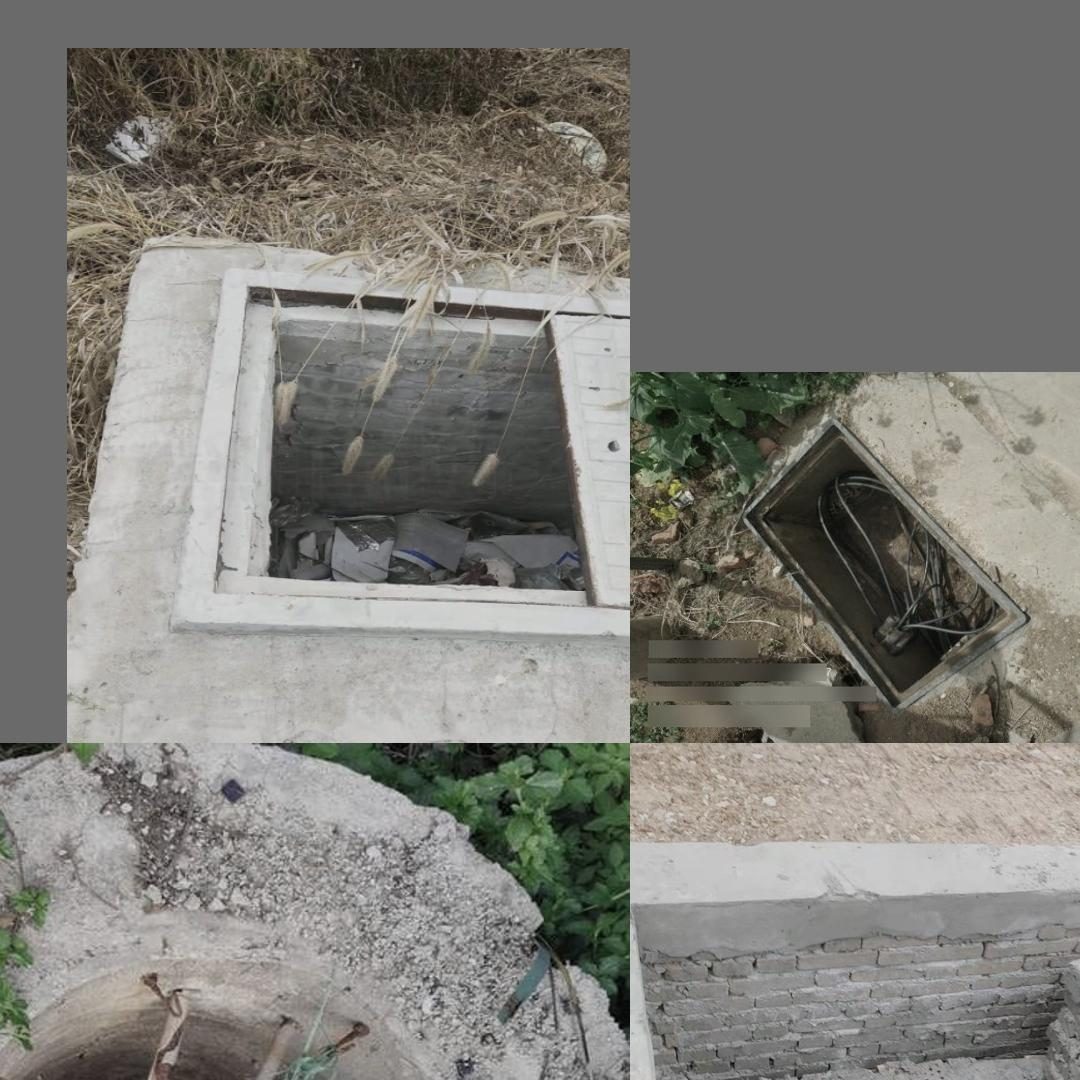lose: (168, 268, 628, 635), (740, 417, 1028, 718), (0, 943, 573, 1080)
